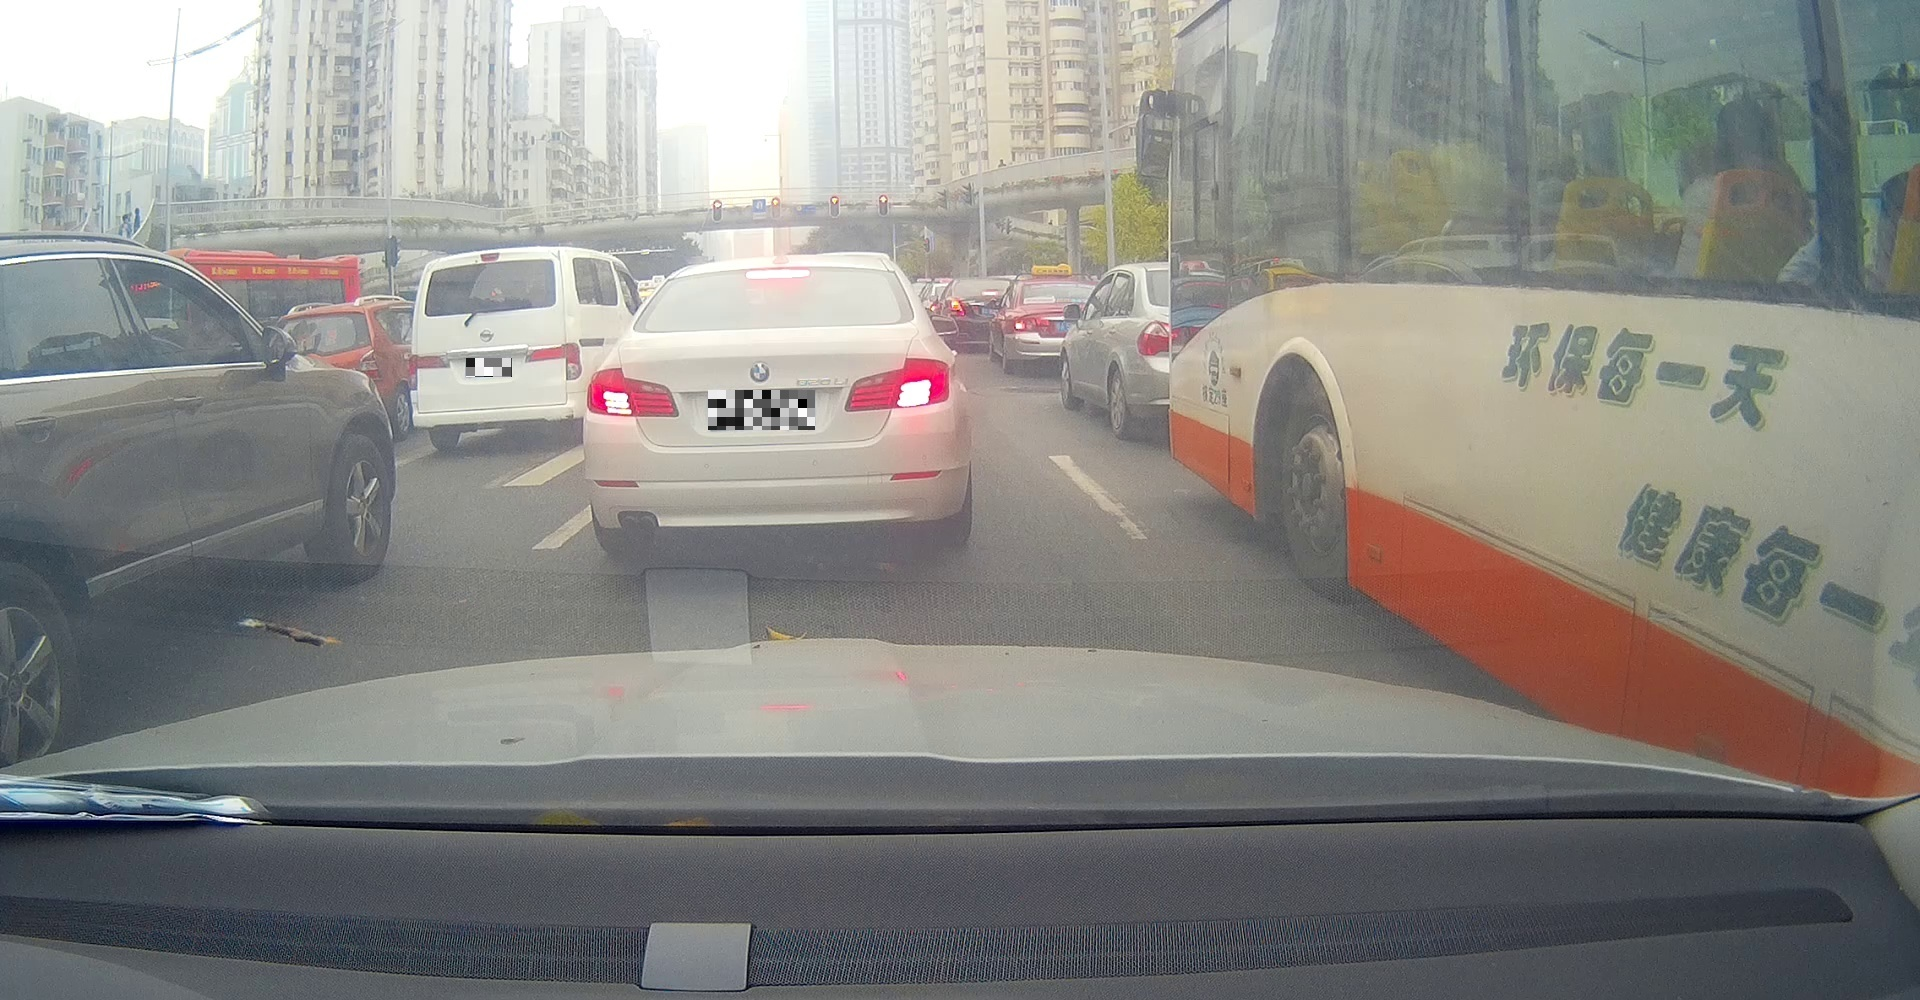L_light: (585, 367, 679, 418), (409, 355, 451, 390)
R_light: (843, 358, 950, 411), (524, 341, 583, 379)
T_light: (745, 269, 811, 279), (480, 253, 499, 261)
day-brake: (583, 254, 973, 551)
day-no: (408, 246, 583, 452)
plate_1: (466, 358, 512, 377)
plate_2: (709, 390, 815, 430)
